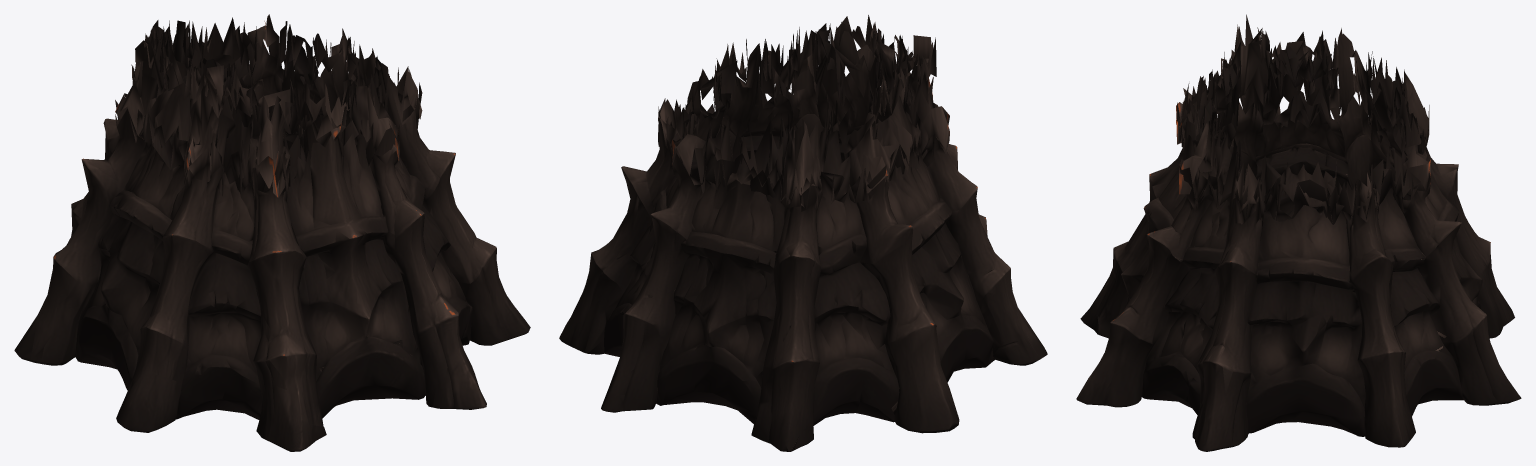
The model's file is SM_HiveSpire_Destroyed.fbx.
3 views of the same model, side by side, from view 1: azimuth 30°, elevation 25°; view 2: azimuth 150°, elevation 25°; view 3: azimuth 270°, elevation 25° (orthographic). The views are drawn at different scales.
Parts seen in each view (by area): view 1: SM_HiveSpire_Destroyed; view 2: SM_HiveSpire_Destroyed; view 3: SM_HiveSpire_Destroyed.
Boxes of the visible parts, x1,y1,x2,y2 form: SM_HiveSpire_Destroyed: [14, 14, 530, 451]; SM_HiveSpire_Destroyed: [559, 15, 1047, 451]; SM_HiveSpire_Destroyed: [1076, 14, 1521, 451].
Size of the model in its own units: 1.35 by 1.03 by 1.38.
